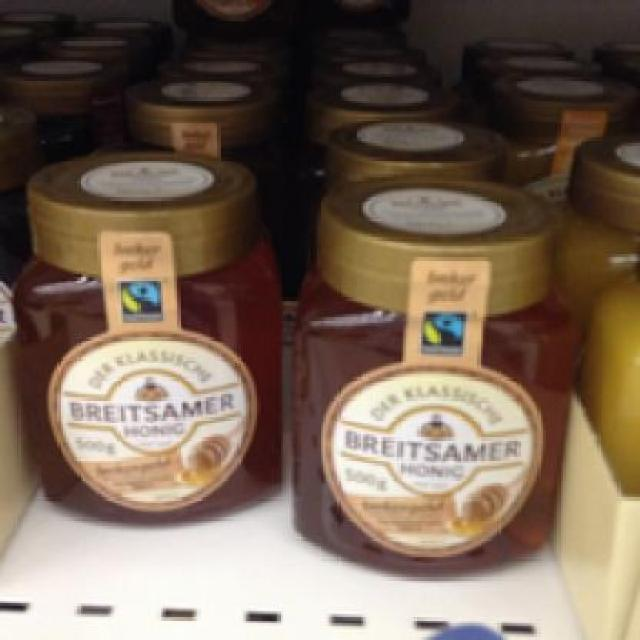Honey: (2, 142, 295, 528), (288, 172, 572, 568)
